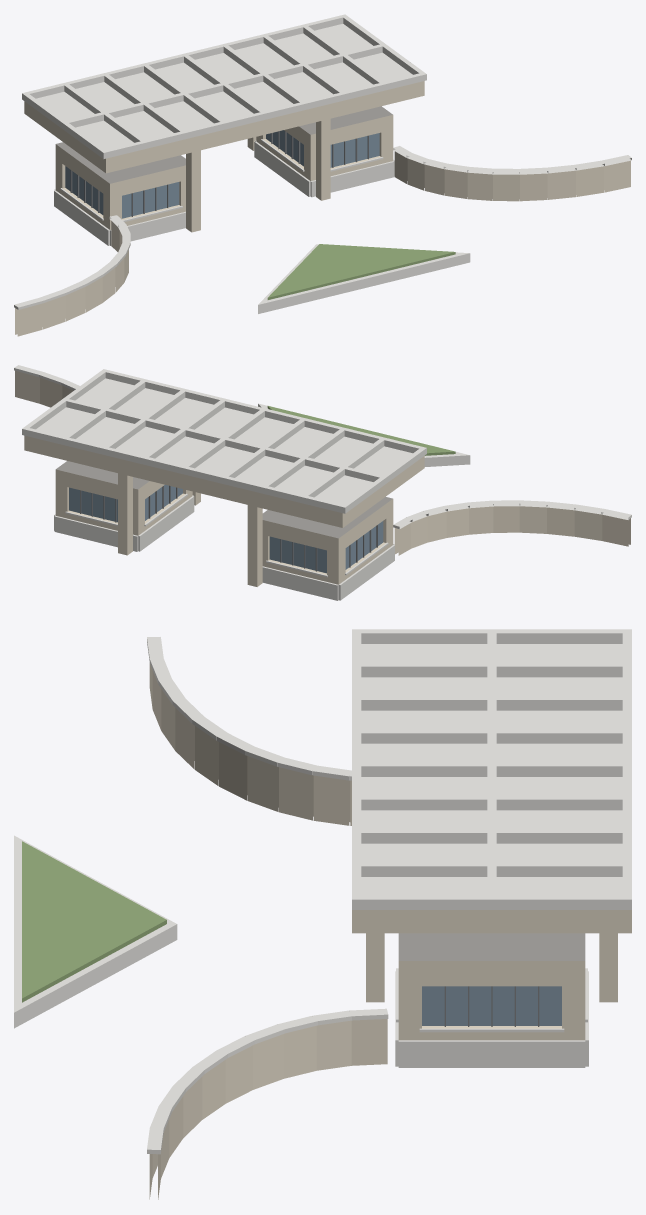
The model's file is Main_Gate.fbx.
3 renders of one model, top to bottom at view 1: azimuth 30°, elevation 25°; view 2: azimuth 150°, elevation 25°; view 3: azimuth 270°, elevation 25°, orthographic. The views are drawn at different scales.
Parts seen in each view (by area): view 1: Main_Gate; view 2: Main_Gate; view 3: Main_Gate.
Boxes of the visible parts, left/top/right/bottom form: Main_Gate: left=14, top=14, right=631, bottom=336; Main_Gate: left=14, top=365, right=631, bottom=600; Main_Gate: left=14, top=629, right=631, bottom=1199.
Bounding box in the file's own units: 52.07 × 8.7 × 26.5.
